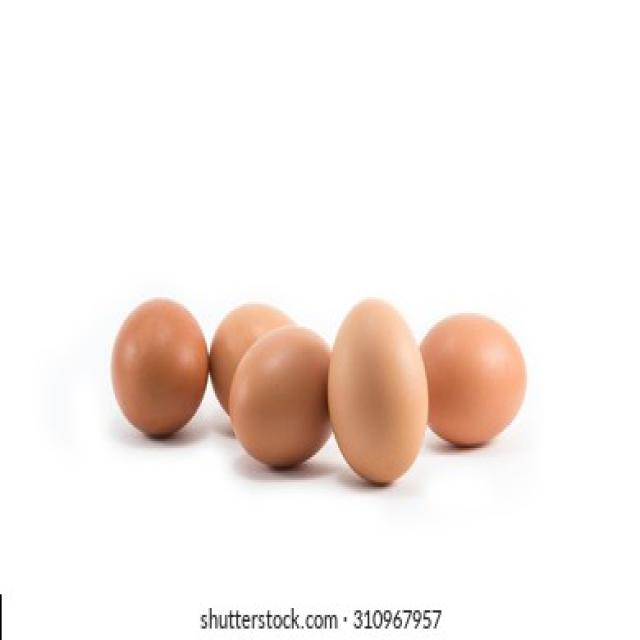Brown Egg: (415, 299, 536, 458), (105, 279, 210, 455), (226, 314, 342, 466), (328, 299, 428, 473)
